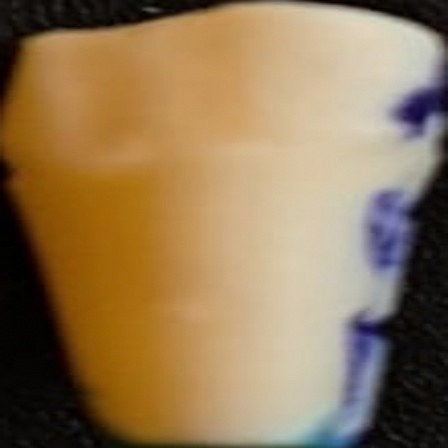coin_1: (427, 137, 447, 157)
coin_2: (435, 65, 448, 85)
coin_3: (16, 163, 36, 183)
coin_4: (6, 141, 26, 161)
